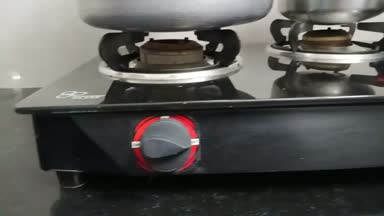flame_gas_off: (84, 23, 244, 177)
